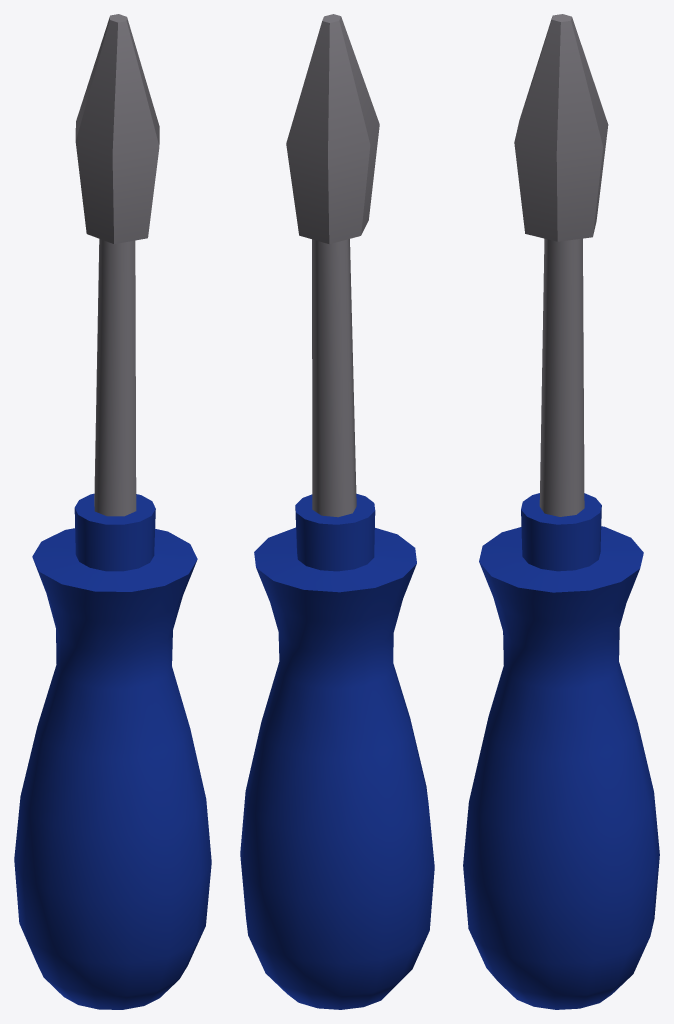
Rendered from Screwdriver_03.fbx.
The picture shows the model from 3 angles, left to right: view 1: azimuth 30°, elevation 25°; view 2: azimuth 150°, elevation 25°; view 3: azimuth 270°, elevation 25°; orthographic projection.
Visible parts, largest first — view 1: Screwdriver_03; view 2: Screwdriver_03; view 3: Screwdriver_03.
Part boxes in pixels (x1,y1,x2,y2): Screwdriver_03: (14, 14, 211, 1009); Screwdriver_03: (240, 14, 434, 1009); Screwdriver_03: (463, 14, 659, 1009).
Size of the model in its own units: 7.15 by 7.12 by 39.22.
